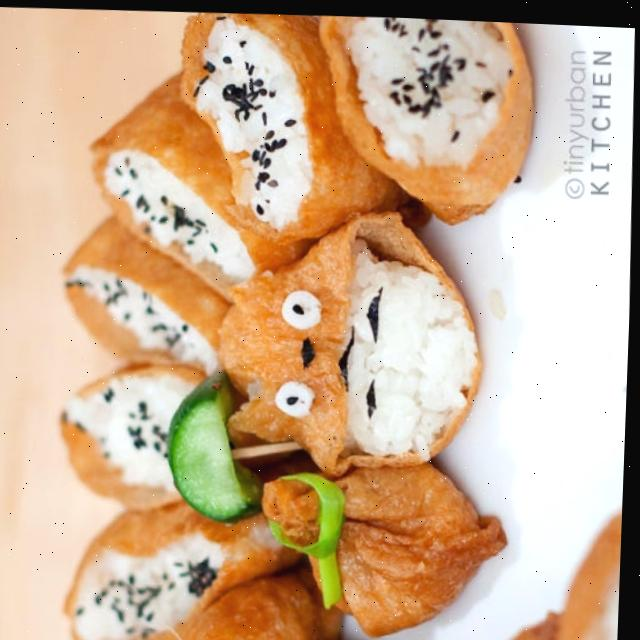寿司卷物: (33, 7, 552, 640)
